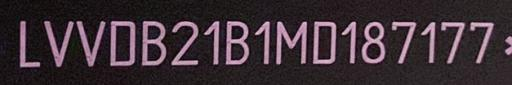letter: (42, 19, 74, 68), (274, 20, 308, 65), (75, 20, 105, 67), (108, 20, 138, 67), (169, 20, 199, 67), (389, 19, 417, 66), (16, 18, 40, 69), (224, 18, 250, 65), (311, 19, 337, 66), (140, 20, 166, 67), (361, 20, 387, 65), (439, 20, 465, 63), (468, 20, 494, 63), (202, 19, 220, 66), (340, 19, 358, 64), (254, 20, 272, 65), (420, 19, 436, 64)
